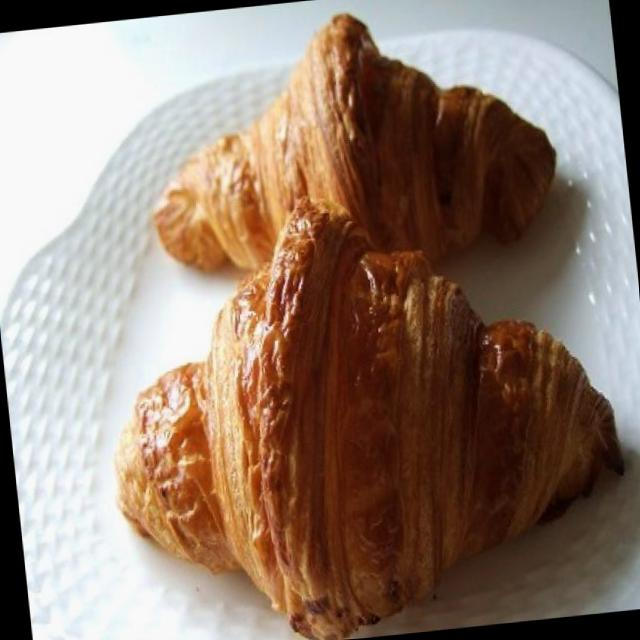Croissant: (74, 159, 640, 640), (113, 0, 572, 289)
